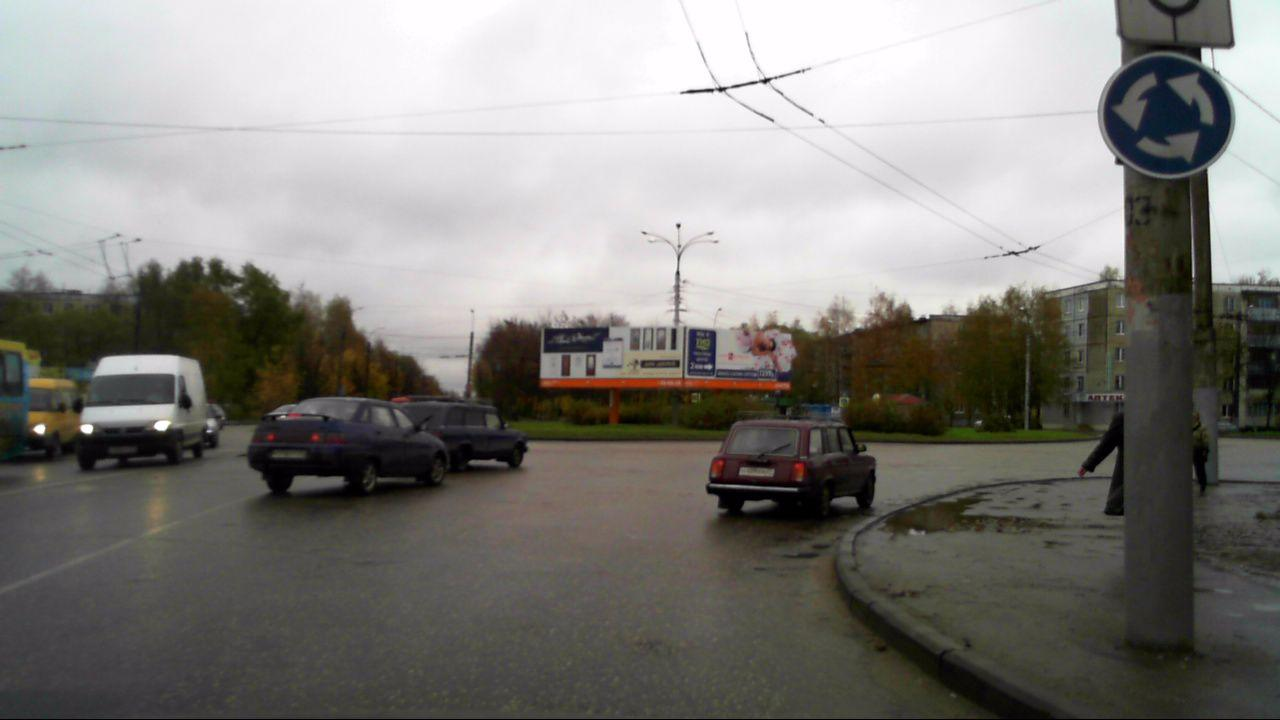4_3: (1096, 50, 1236, 179)
8_13: (1117, 0, 1237, 46)
